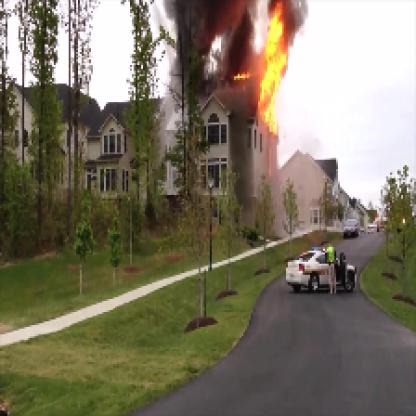Fire: (230, 2, 297, 130)
Smoke: (169, 4, 264, 87)
